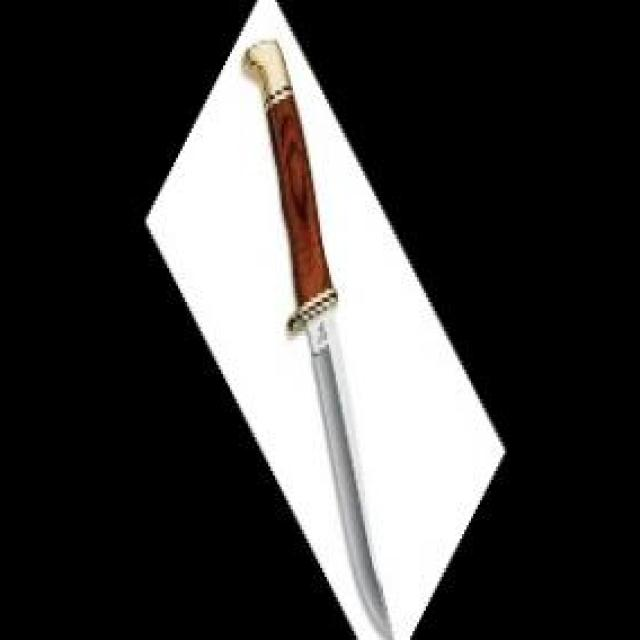knife: (241, 38, 397, 640)
